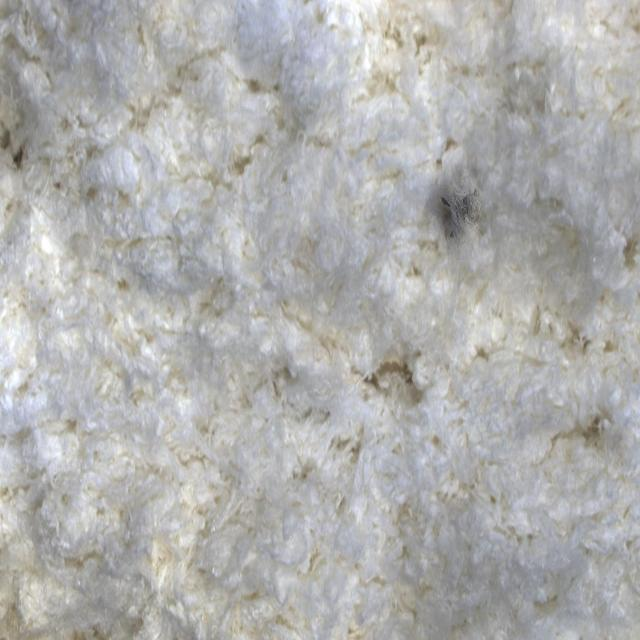dust: (389, 145, 506, 264)
